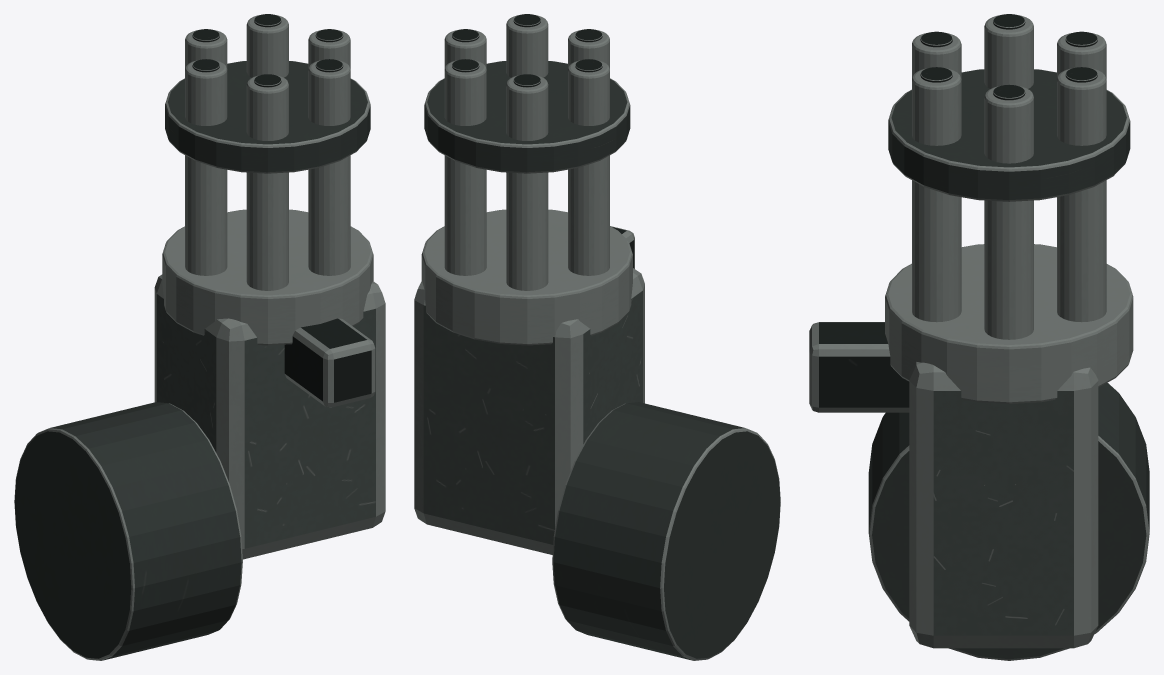
The model's file is rotary-t1.glb.
3 views of the same model, side by side, from view 1: azimuth 30°, elevation 25°; view 2: azimuth 150°, elevation 25°; view 3: azimuth 270°, elevation 25° (orthographic). The views are drawn at different scales.
Parts seen in each view (by area): view 1: Ammunition drum, Rotary receiver, Rotating barrel carrier, Barrel front clamp, Rotary steel barrel 4, Rotary steel barrel 5, Rotary steel barrel 3, Support foregrip, Rotary steel barrel 1, Rotary steel barrel 2, Rotary steel barrel 0; view 2: Ammunition drum, Rotary receiver, Rotating barrel carrier, Barrel front clamp, Rotary steel barrel 2, Rotary steel barrel 1, Rotary steel barrel 3, Rotary steel barrel 5, Rotary steel barrel 0, Rotary steel barrel 4; view 3: Rotary receiver, Rotating barrel carrier, Ammunition drum, Barrel front clamp, Rotary steel barrel 0, Rotary steel barrel 1, Rotary steel barrel 5, Support foregrip, Rotary steel barrel 3, Rotary steel barrel 2, Rotary steel barrel 4.
Part boxes in pixels (x1,y1,x2,y2): Ammunition drum: (14,402,242,660); Rotary receiver: (154,274,385,559); Rotating barrel carrier: (162,209,373,345); Barrel front clamp: (165,61,370,173); Rotary steel barrel 4: (246,75,288,290); Rotary steel barrel 5: (308,60,350,275); Rotary steel barrel 3: (185,60,227,275); Support foregrip: (284,318,375,407); Rotary steel barrel 1: (246,15,288,77); Rotary steel barrel 2: (185,30,227,69); Rotary steel barrel 0: (308,30,350,68); Ammunition drum: (552,402,780,660); Rotary receiver: (414,268,644,554); Rotating barrel carrier: (421,209,632,345); Barrel front clamp: (424,61,630,173); Rotary steel barrel 2: (506,75,548,290); Rotary steel barrel 1: (444,60,486,275); Rotary steel barrel 3: (568,60,609,275); Rotary steel barrel 5: (506,15,548,77); Rotary steel barrel 0: (444,30,486,68); Rotary steel barrel 4: (568,30,609,68); Rotary receiver: (909,362,1098,648); Rotating barrel carrier: (885,244,1133,403); Ammunition drum: (868,382,1149,660); Barrel front clamp: (888,69,1130,201); Rotary steel barrel 0: (984,86,1033,339); Rotary steel barrel 1: (1057,68,1106,322); Rotary steel barrel 5: (912,68,961,322); Support foregrip: (809,322,909,412); Rotary steel barrel 3: (984,15,1033,88); Rotary steel barrel 2: (1057,33,1106,78); Rotary steel barrel 4: (912,33,961,78).
Size of the model in its own units: 0.72 by 1.34 by 0.63.
Materials: 4 (4 with a texture image).
